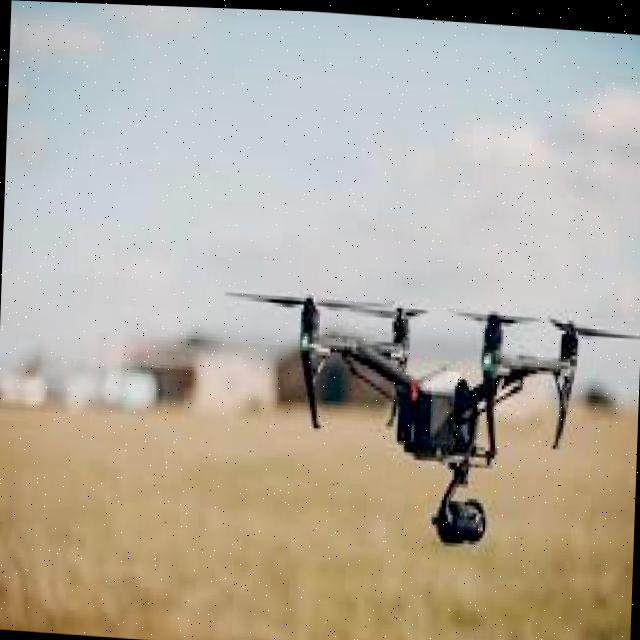drone: (210, 247, 638, 554)
